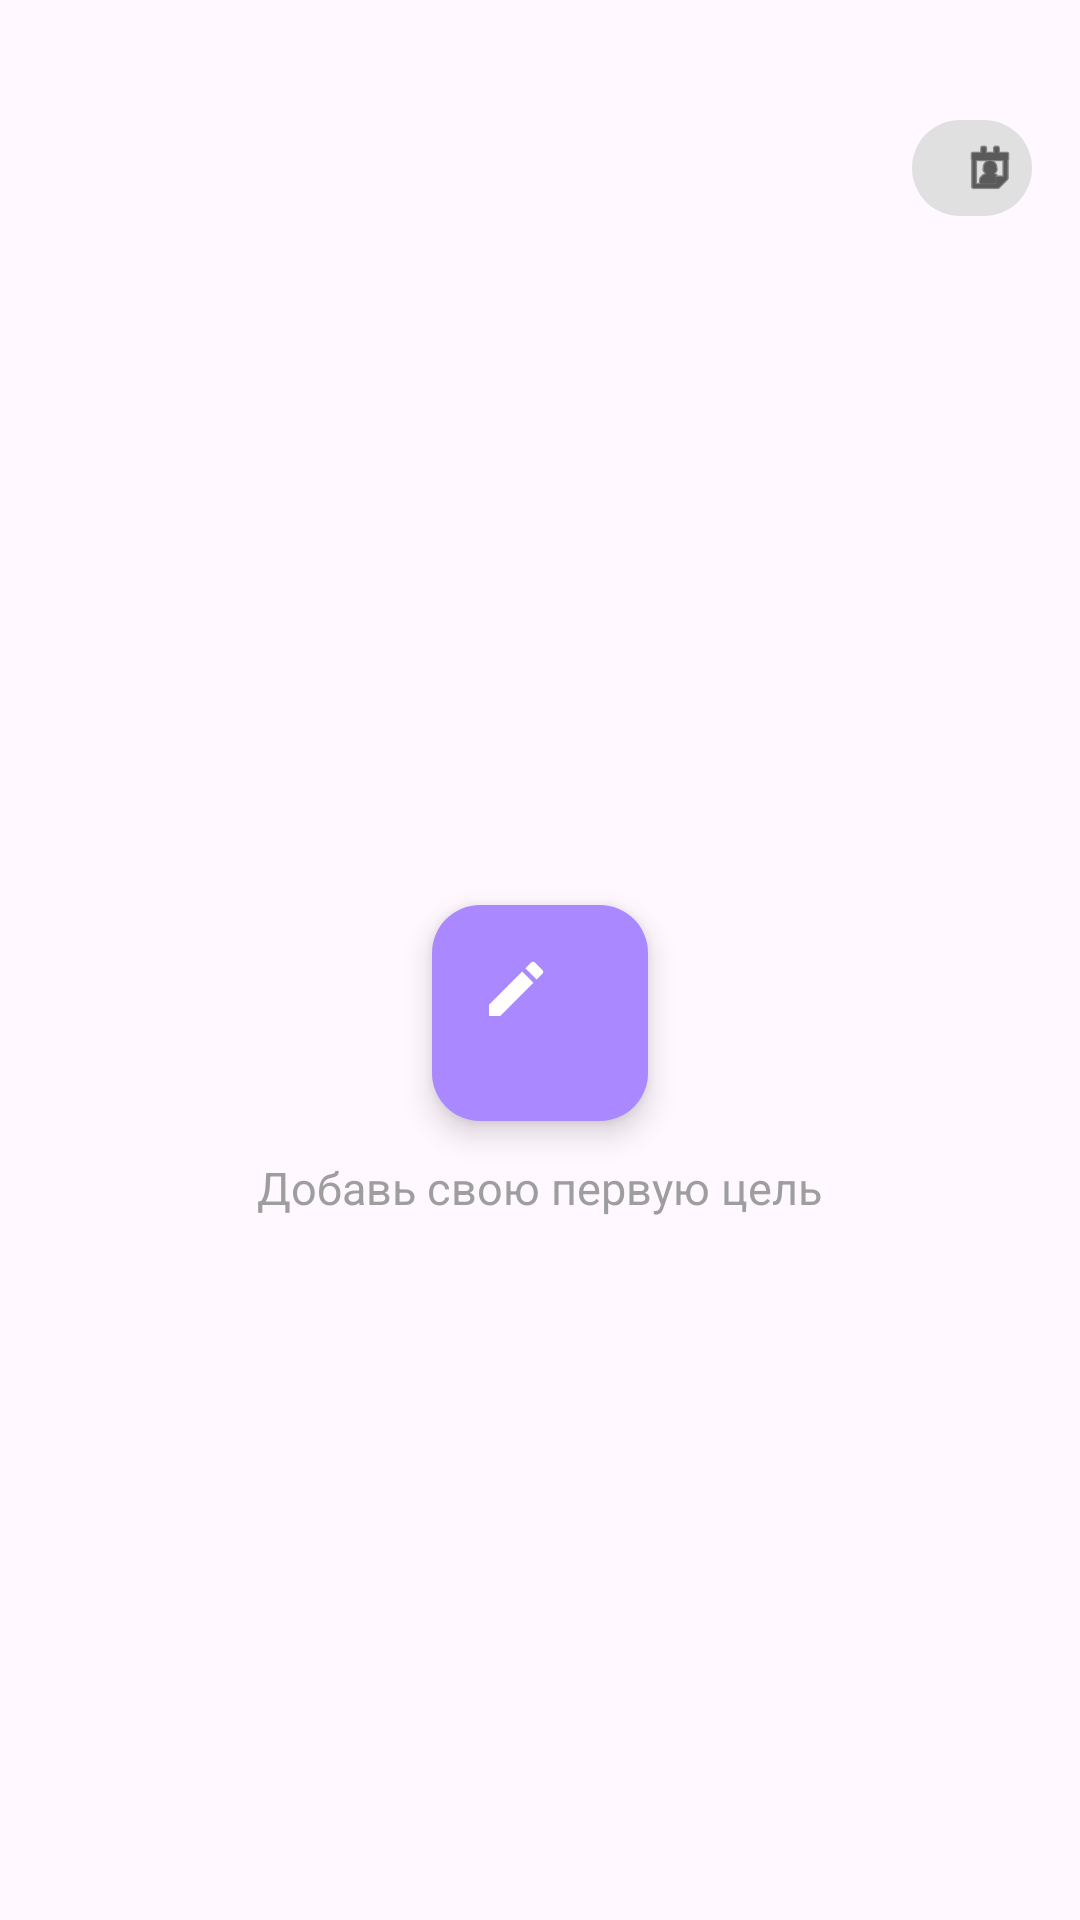

Icon click points for this 1080px×1920px phone screenshot, format point (x, y):
pencil: point (540, 1013)
